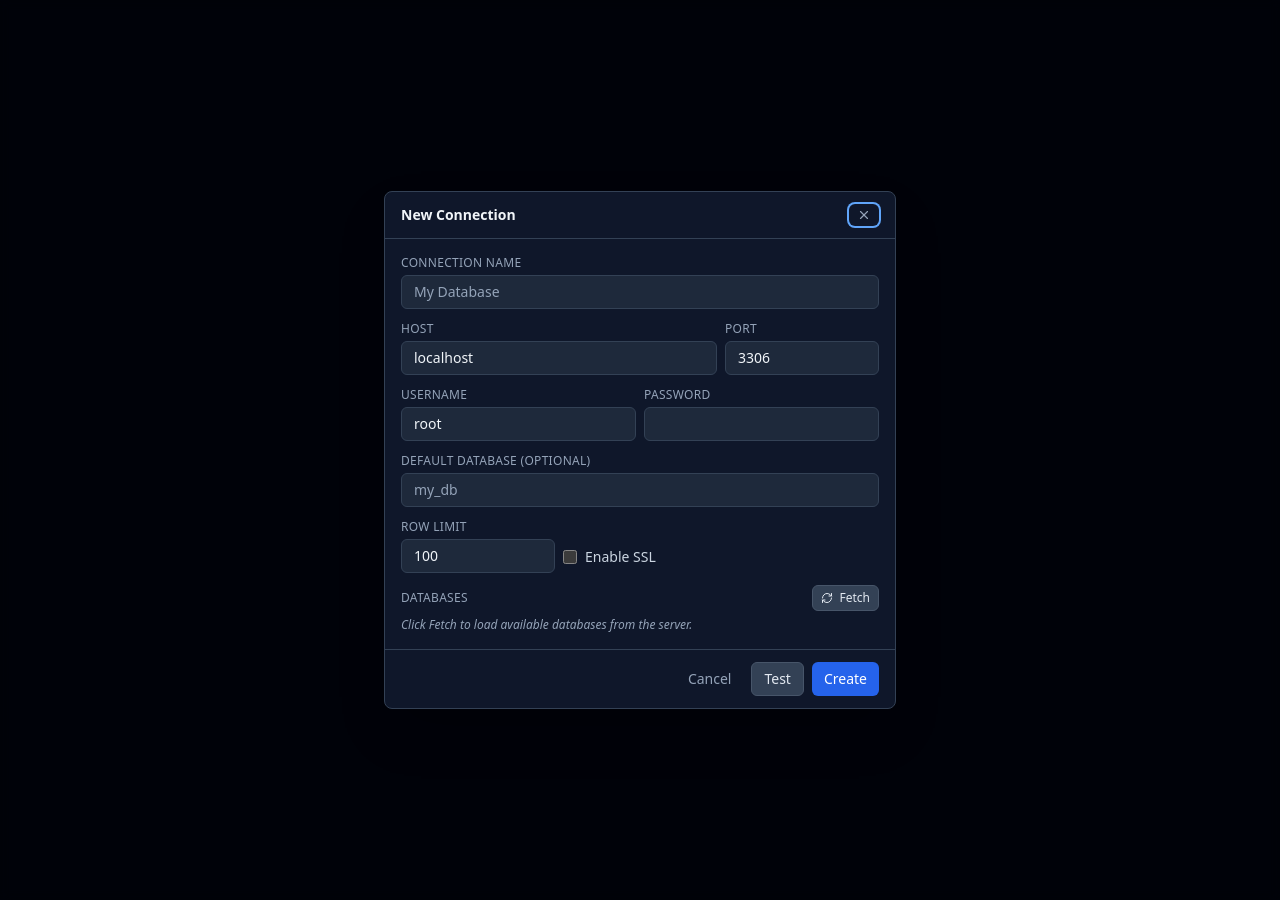
Scenario: SessionForm › shows error message when save fails
This screenshot has width=1280, height=900.
In the field with placeholder "My Database": (640, 292) x1=401 y1=275 x2=879 y2=309, type "Existing DB"
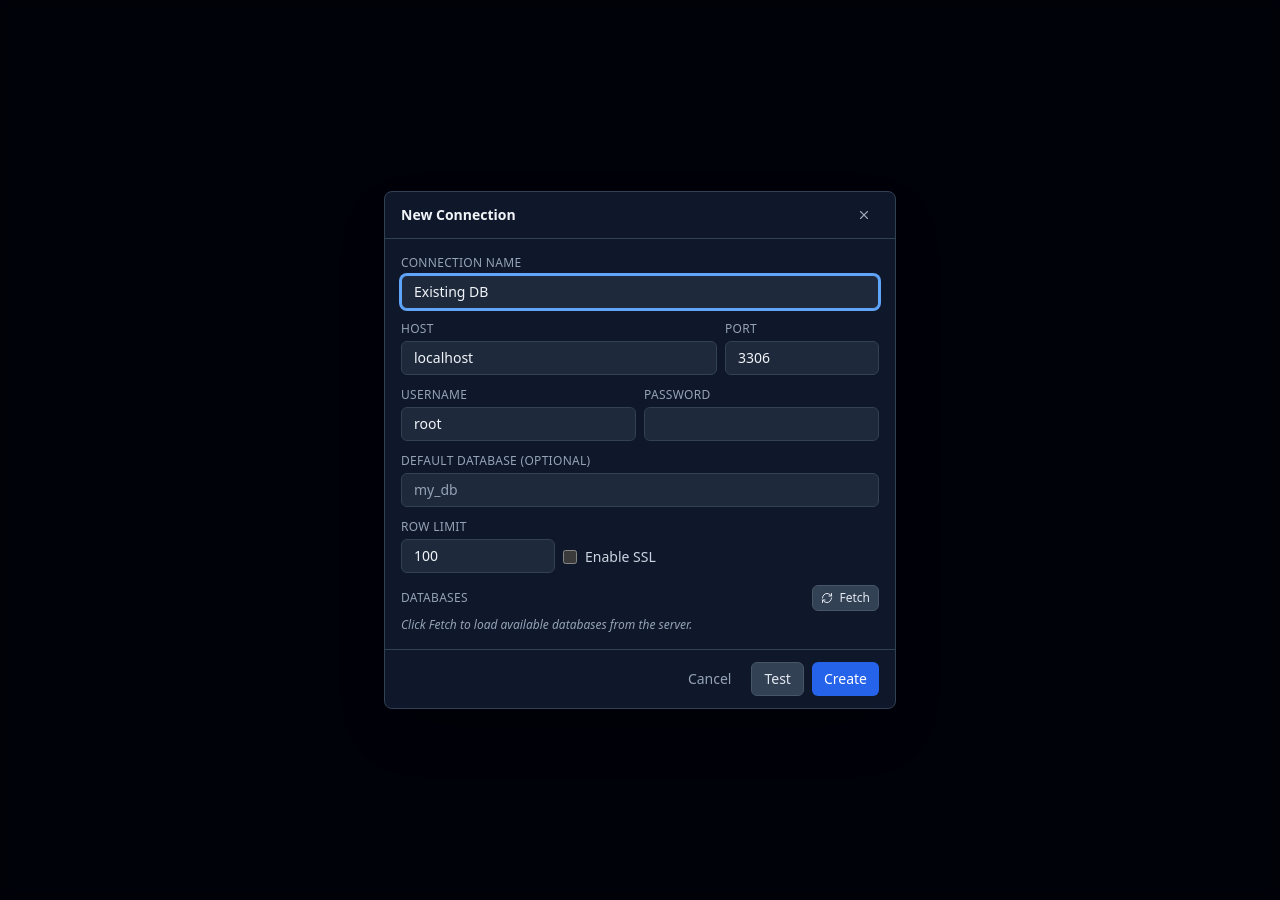
Click the button "Create": (845, 679) x1=812 y1=662 x2=879 y2=696
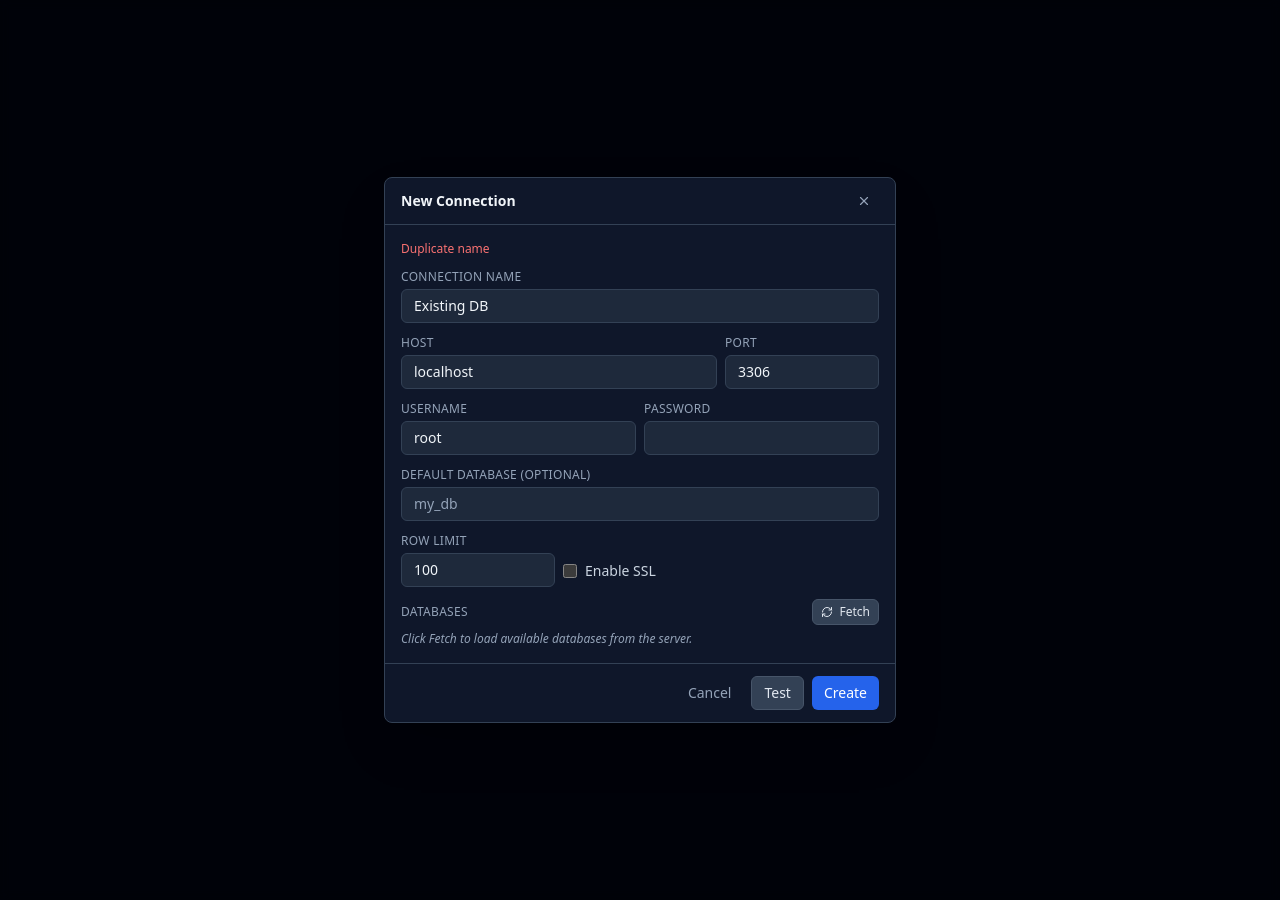
Result: the text "Duplicate name" is shown at x1=401 y1=240 x2=490 y2=257
